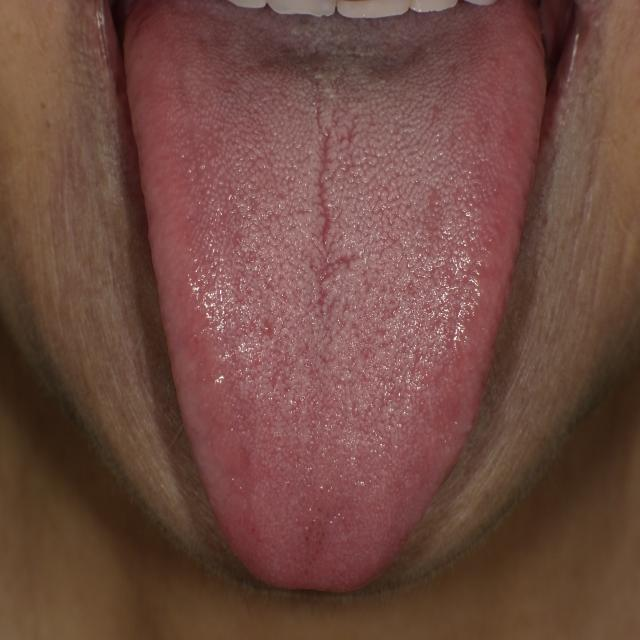baitaishe: (124, 1, 547, 592)
liewenshe: (312, 101, 332, 249)
